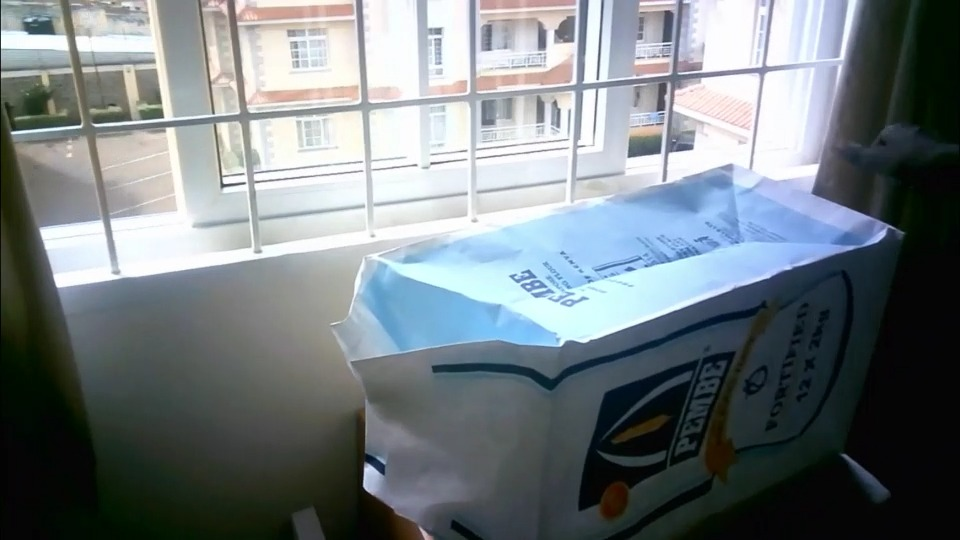wheat_flour_blue_label: (327, 159, 900, 536)
